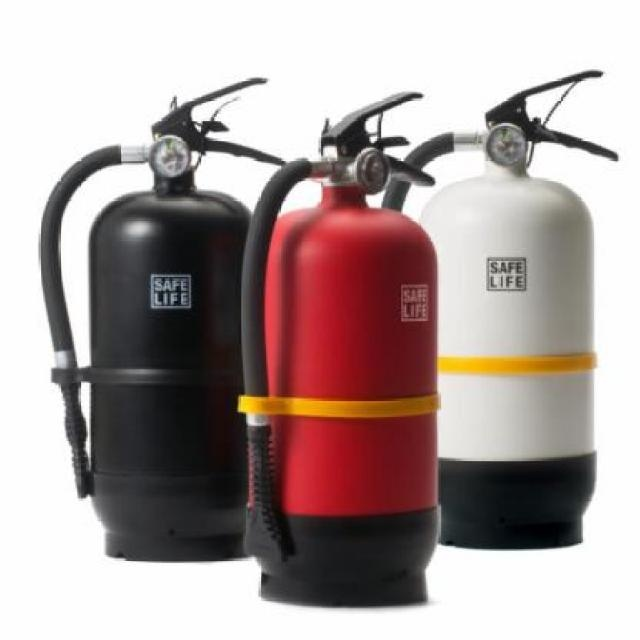fire extinguisher: (39, 78, 288, 564), (380, 69, 618, 549), (241, 90, 439, 607)
